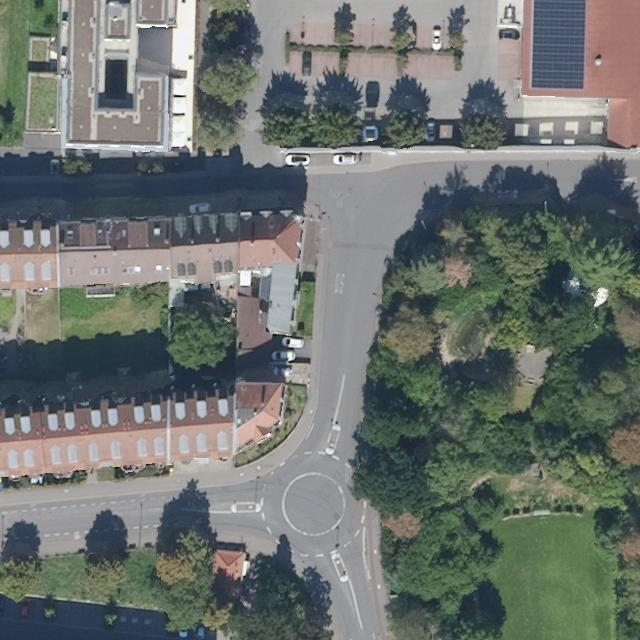PV: (526, 1, 591, 93)
